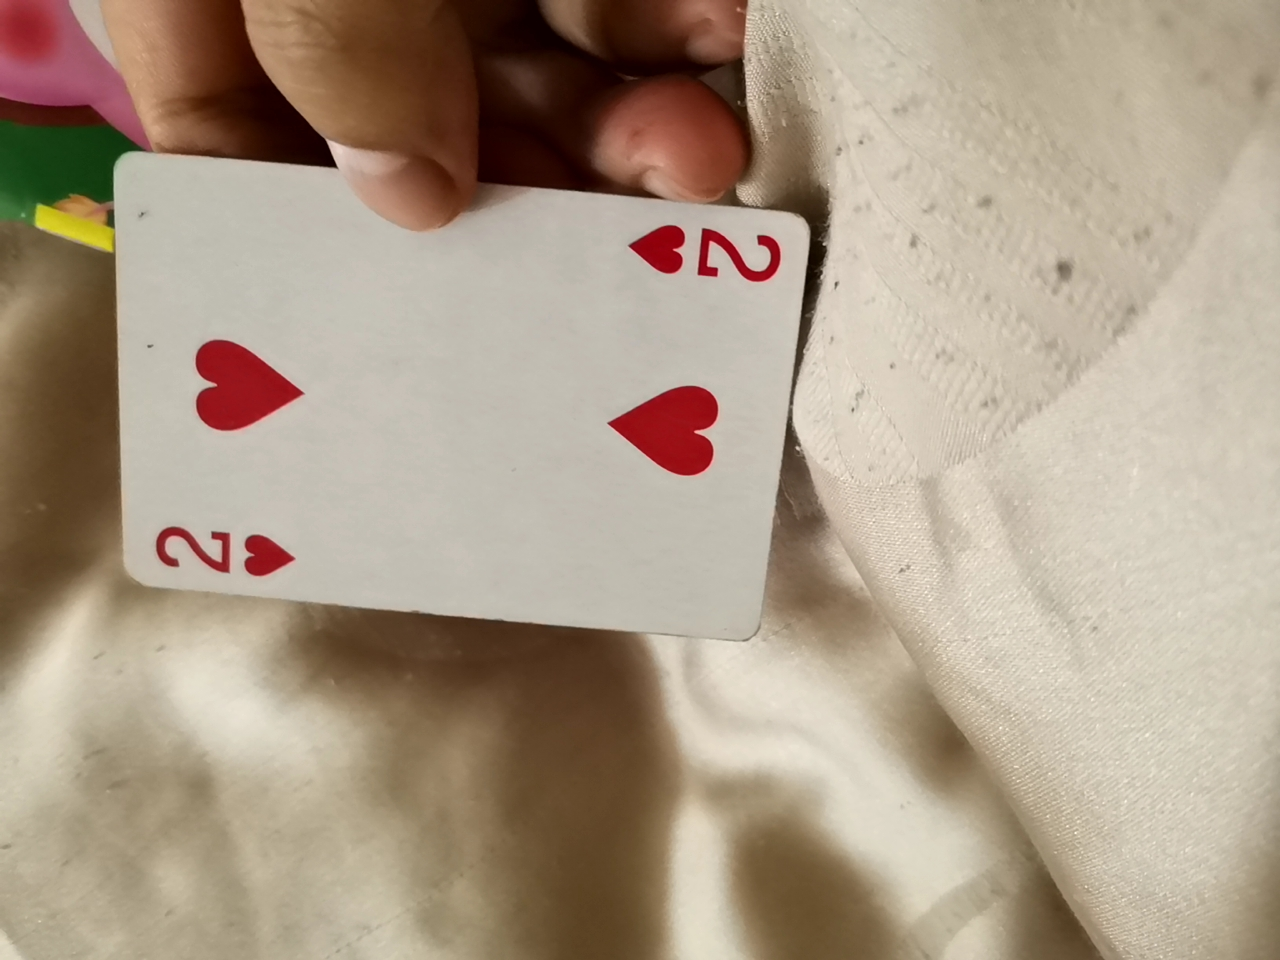hx 2: (83, 138, 828, 645)
